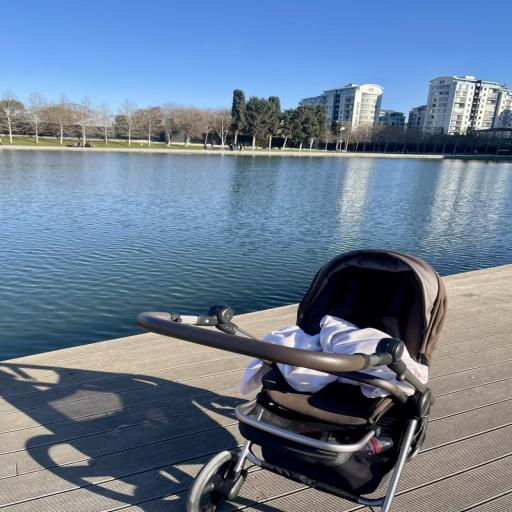people: (134, 248, 449, 512)
